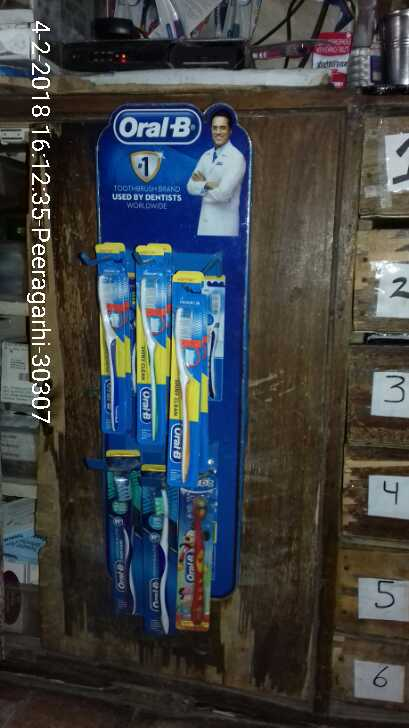oralb: (93, 259, 129, 432), (175, 298, 203, 492), (139, 278, 163, 442), (112, 476, 139, 618), (184, 497, 213, 629), (152, 489, 176, 636)
